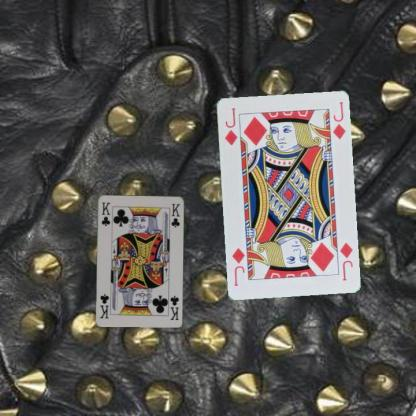Jd: (337, 240, 354, 282), (222, 104, 238, 146)
Kc: (167, 293, 180, 321), (99, 199, 111, 227)
